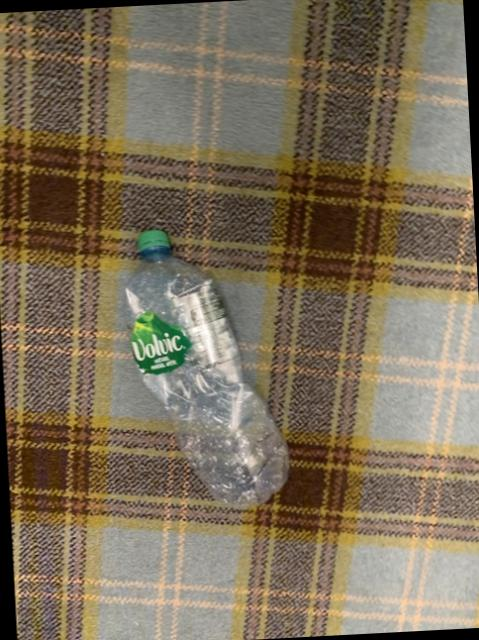plastic: (124, 228, 286, 505)
